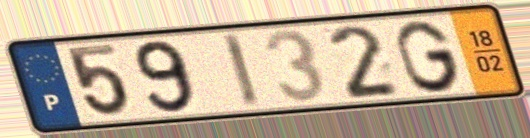2: (327, 23, 406, 102)
3: (261, 26, 330, 107)
5: (60, 44, 134, 120)
9: (133, 38, 199, 117)
G: (393, 18, 465, 95)
I: (217, 30, 265, 111)
